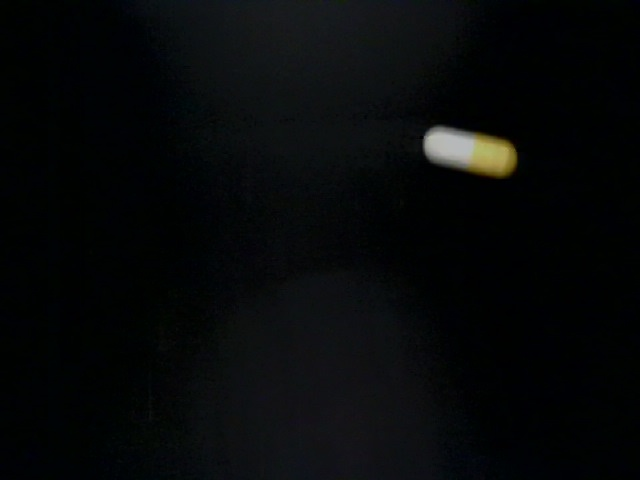YHLJ: (93, 365, 404, 473)
